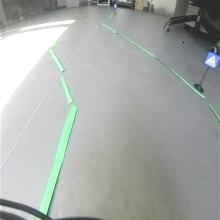crosswalk: (203, 50, 220, 69)
